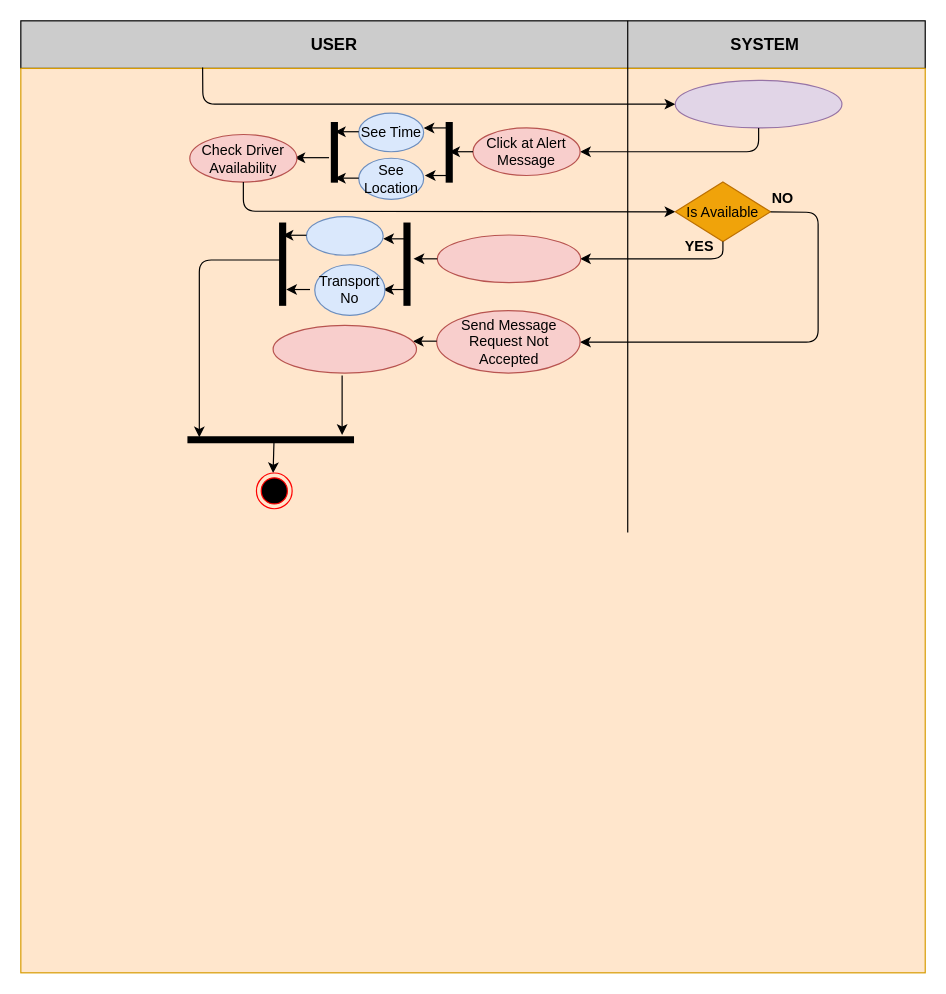
The diagram is 946 pixels wide and 994 high, and some of its shapes have lost their labels. Here are the shapes that lost their labels. From the top down, the centre of each, then its label:
At (758,103): "Show Alert Message Request for Urgent Trip".
At (344,235): "Driver Name".
At (508,258): "Send Message Request Accepted".
At (344,348): "Sorry for Inconvenience".
